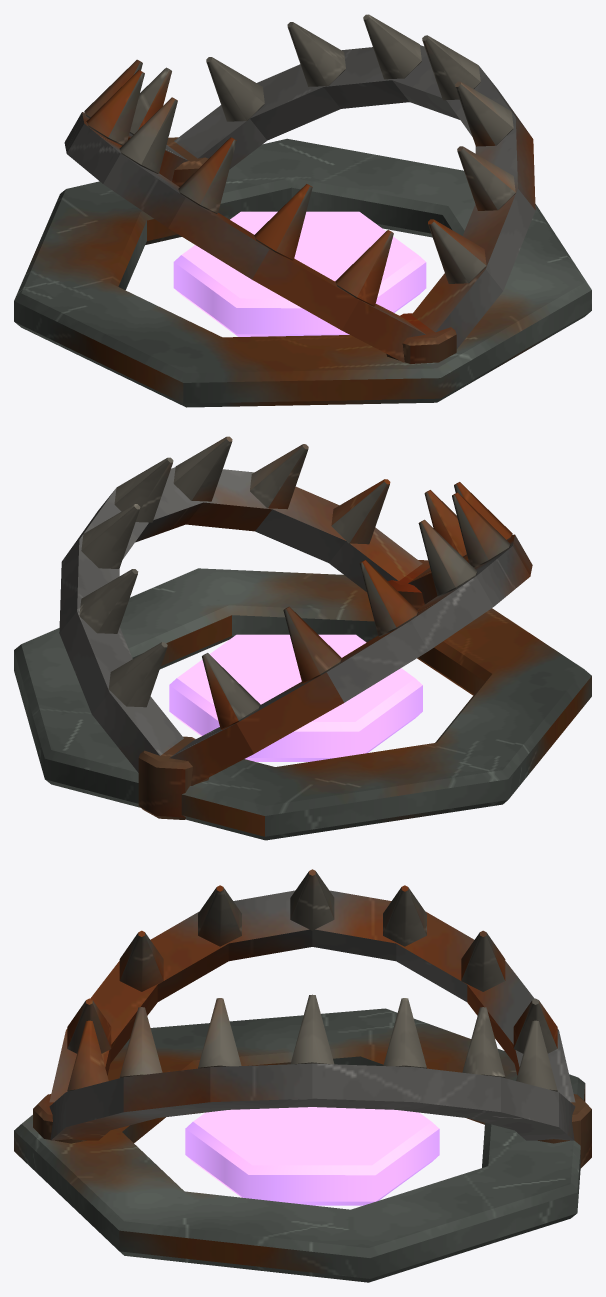
Rendered from R4D_SnareTrap_LOD1.glb.
The picture shows the model from 3 angles, top to bottom: view 1: azimuth 30°, elevation 25°; view 2: azimuth 150°, elevation 25°; view 3: azimuth 270°, elevation 25°; orthographic projection.
Parts seen in each view (by area): view 1: R4D_SnareTrap_LOD1; view 2: R4D_SnareTrap_LOD1; view 3: R4D_SnareTrap_LOD1.
Boxes of the visible parts, <box> form: R4D_SnareTrap_LOD1: <box>14,14,591,407</box>; R4D_SnareTrap_LOD1: <box>14,436,591,840</box>; R4D_SnareTrap_LOD1: <box>14,869,591,1282</box>.
Size of the model in its own units: 0.458 by 0.1997 by 0.4549.
5 materials, 4 textured.
